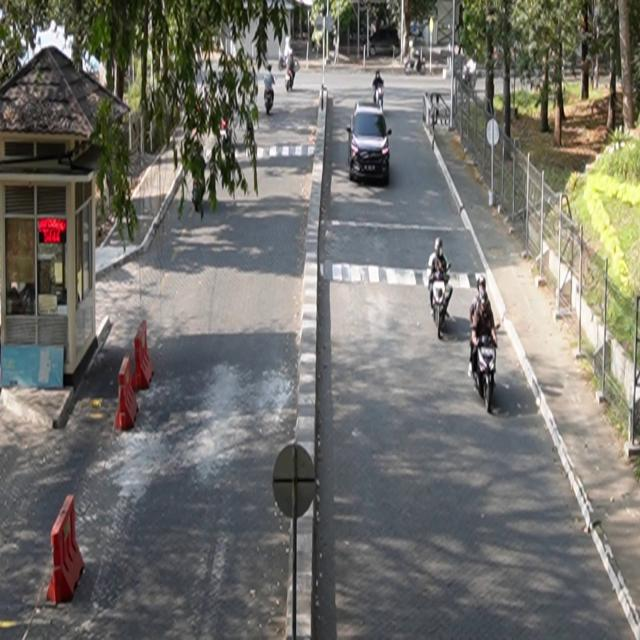car: (347, 101, 393, 186)
